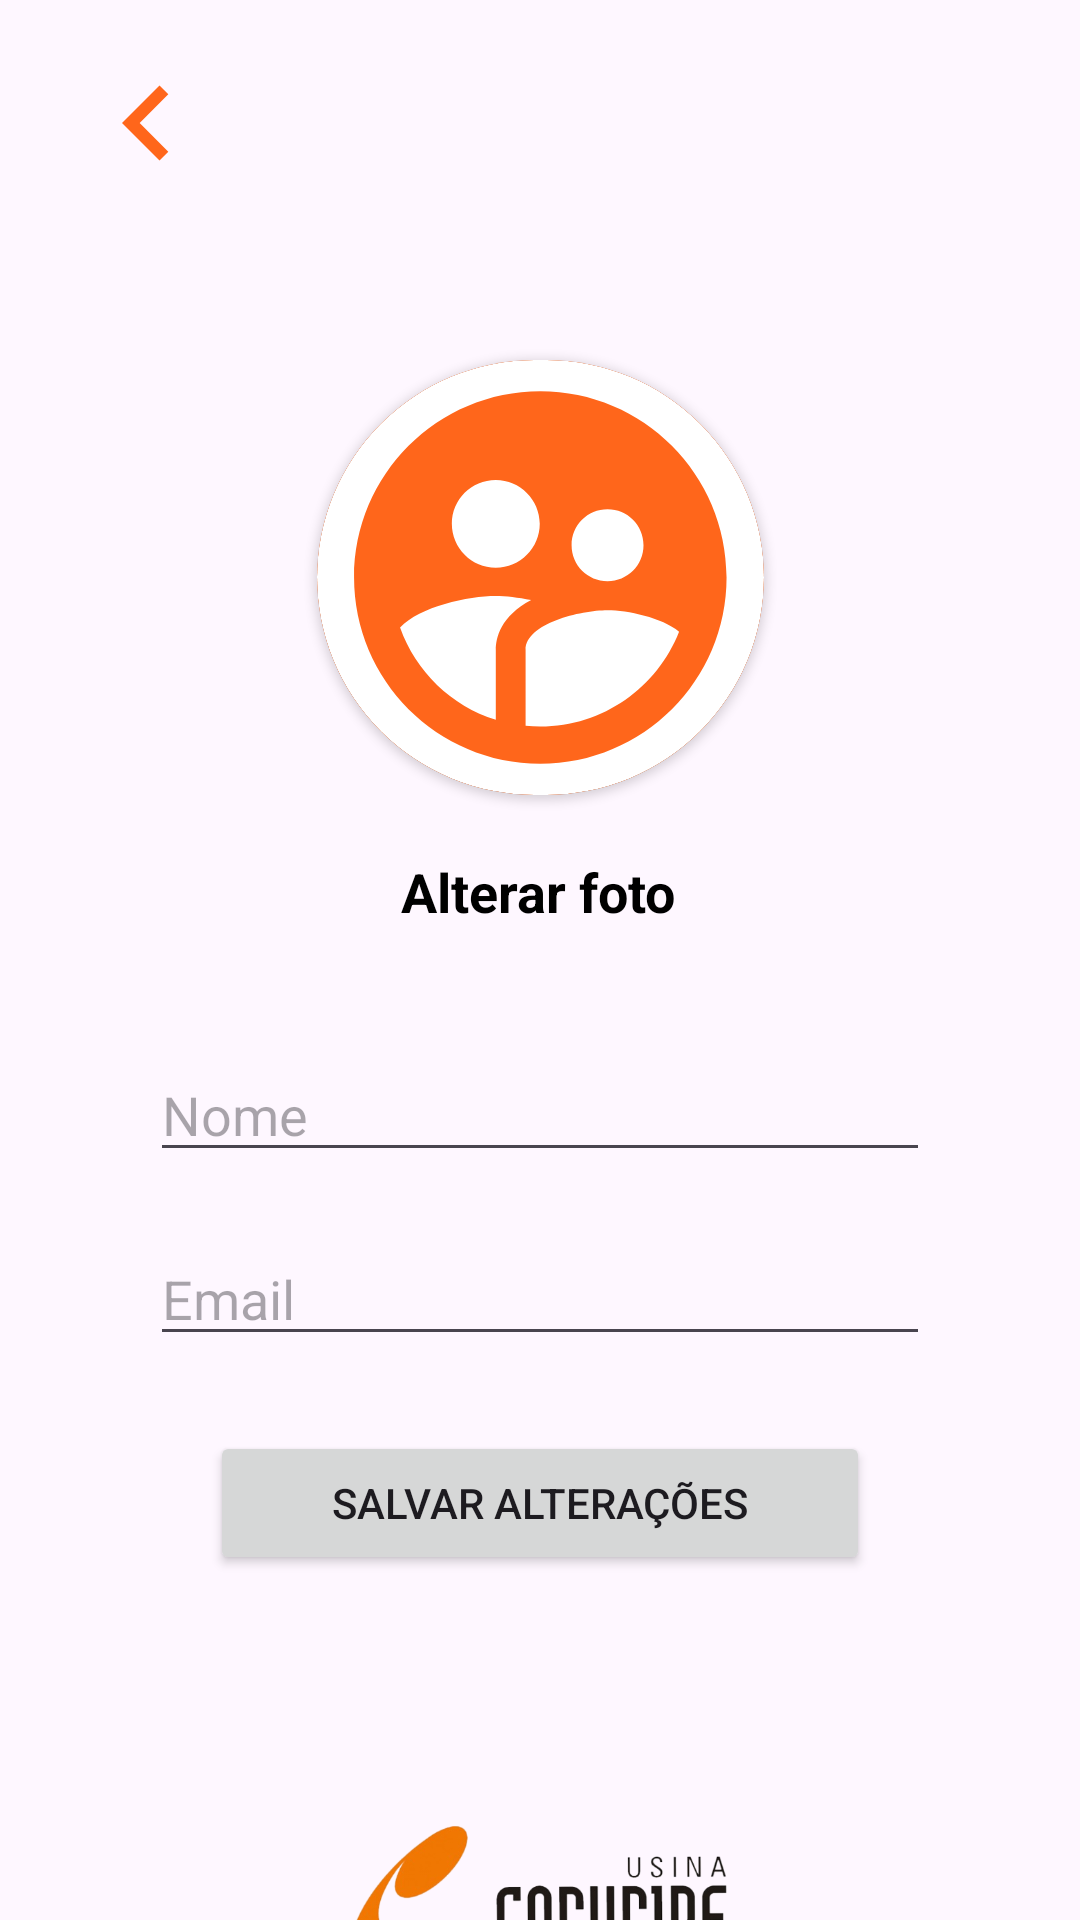

Where icons sit on this 1080px×1920px app screen, as (x1, y1, x2, y2):
voltar: (122, 85, 168, 161)
